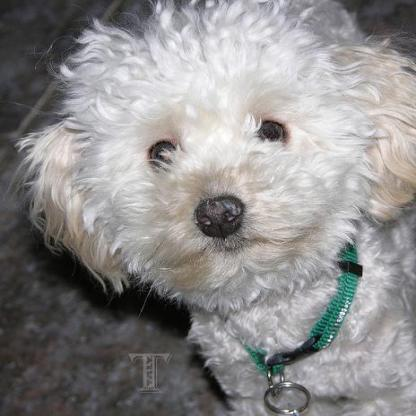toy_poodle: (15, 0, 414, 414)
